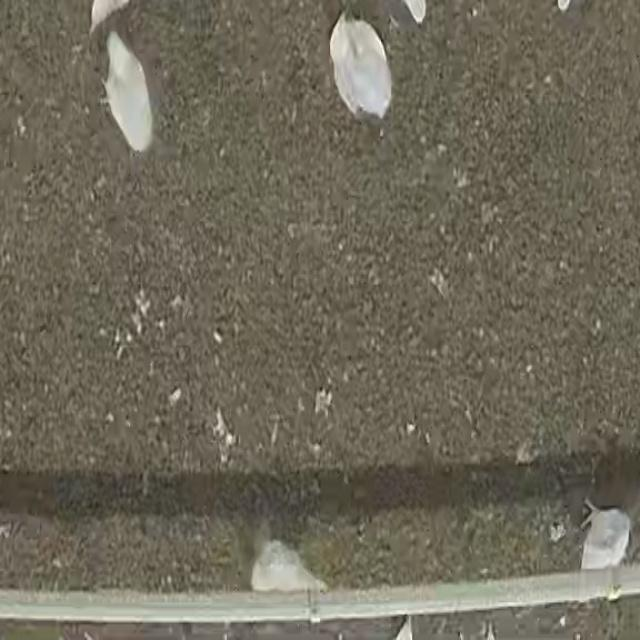chicken: (324, 9, 399, 120), (101, 30, 162, 158), (577, 498, 631, 586)
